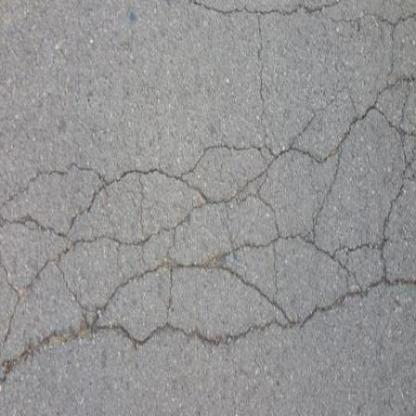Cracks: (0, 187, 389, 301), (1, 132, 314, 247), (1, 301, 386, 388), (336, 88, 416, 336), (288, 68, 416, 169), (242, 4, 284, 153), (366, 0, 416, 97), (173, 1, 372, 23)
